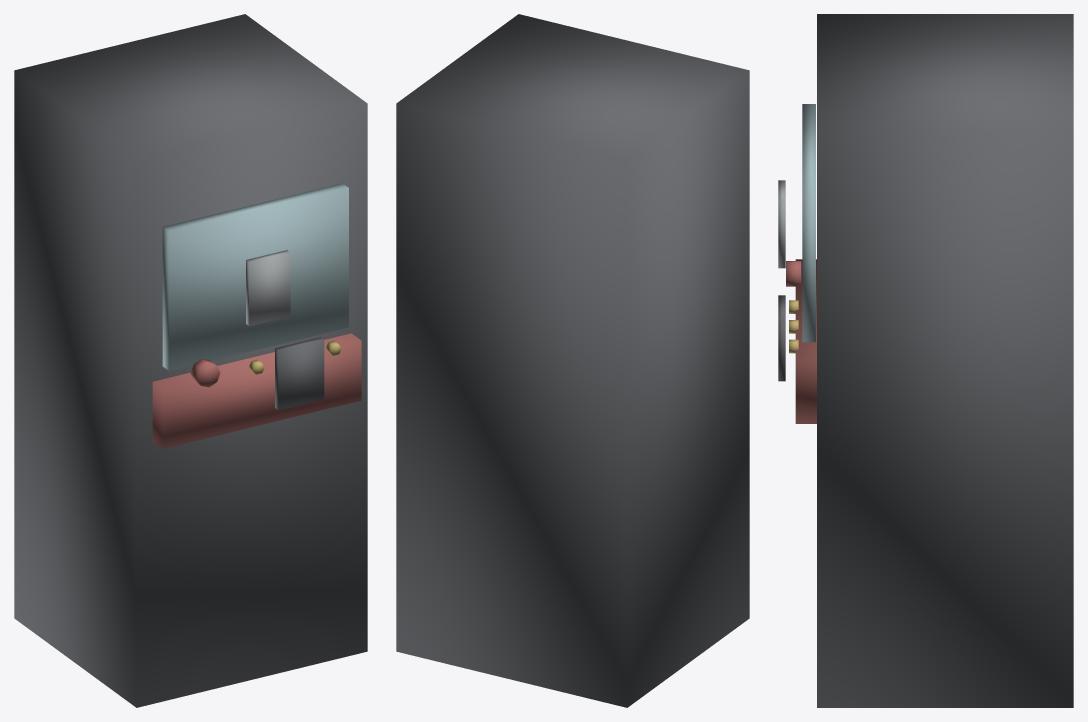
Rendered from arcade_cabinet__weathered.glb.
3 renders of one model, left to right at view 1: azimuth 30°, elevation 25°; view 2: azimuth 150°, elevation 25°; view 3: azimuth 270°, elevation 25°, orthographic. The views are drawn at different scales.
Parts seen in each view (by area): view 1: world; view 2: world; view 3: world.
Part boxes in pixels (box(x1,y1,x2,y2)): world: box(14, 14, 367, 707); world: box(396, 14, 749, 707); world: box(778, 14, 1073, 707).
Size of the model in its own units: 0.72 by 1.63 by 0.7596.
